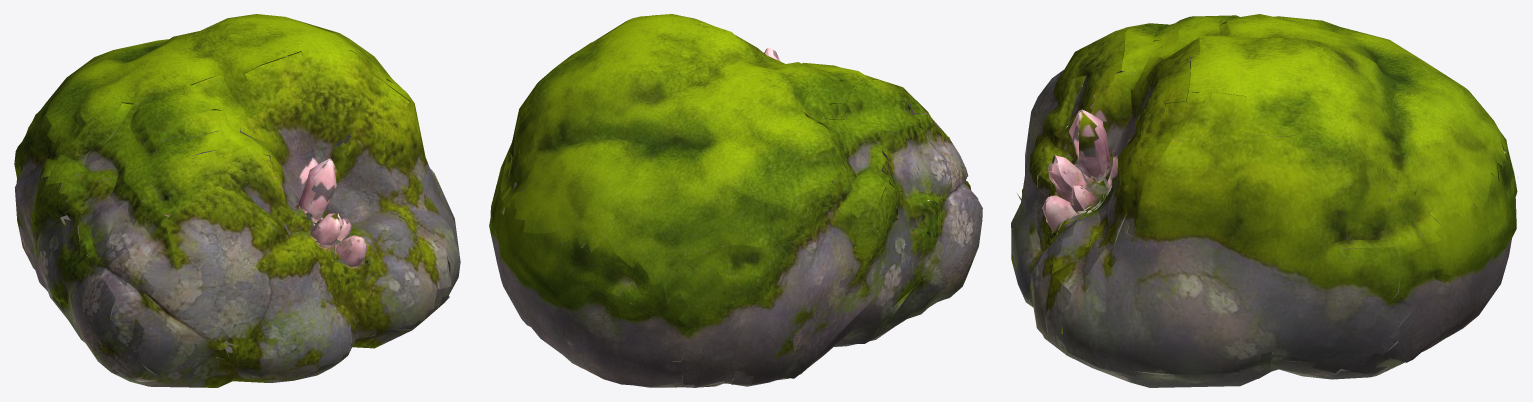
File: boulder.glb
3 renders of one model, left to right at view 1: azimuth 30°, elevation 25°; view 2: azimuth 150°, elevation 25°; view 3: azimuth 270°, elevation 25°, orthographic. The views are drawn at different scales.
Parts seen in each view (by area): view 1: Mossy Quartz Boulder; view 2: Mossy Quartz Boulder; view 3: Mossy Quartz Boulder.
Boxes of the visible parts, x1,y1,x2,y2 form: Mossy Quartz Boulder: [14, 14, 460, 387]; Mossy Quartz Boulder: [489, 14, 982, 387]; Mossy Quartz Boulder: [1011, 14, 1517, 387].
Size of the model in its own units: 2.22 by 1.5 by 2.3.
Materials: 1 (1 with a texture image).
